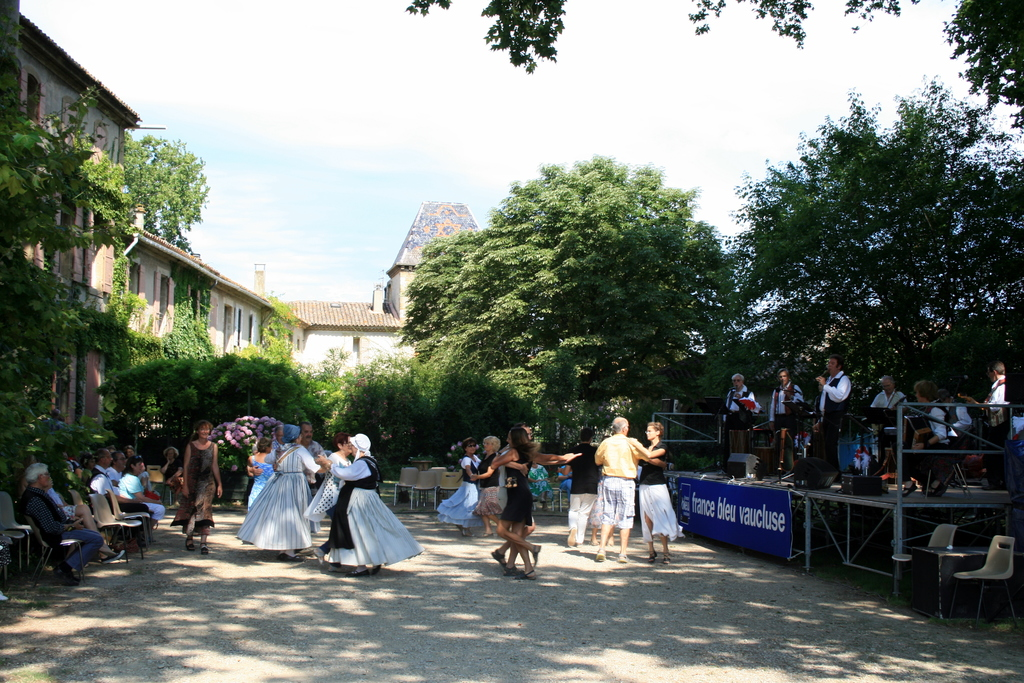Tree: (403, 157, 753, 440), (712, 105, 1009, 388), (111, 242, 436, 471), (0, 69, 138, 536), (326, 313, 607, 489), (940, 0, 1023, 180), (104, 120, 210, 251), (480, 0, 574, 74), (739, 0, 811, 42), (681, 0, 721, 35), (837, 0, 897, 18), (403, 0, 455, 12)
